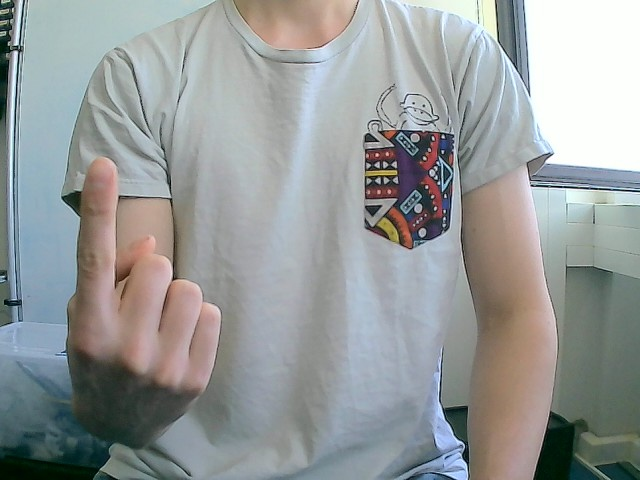up: (64, 156, 223, 450)
